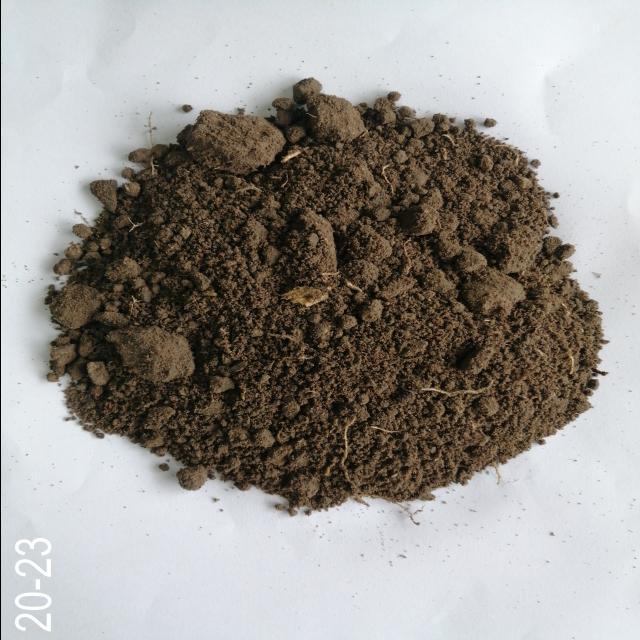soil: (146, 178, 486, 404)
